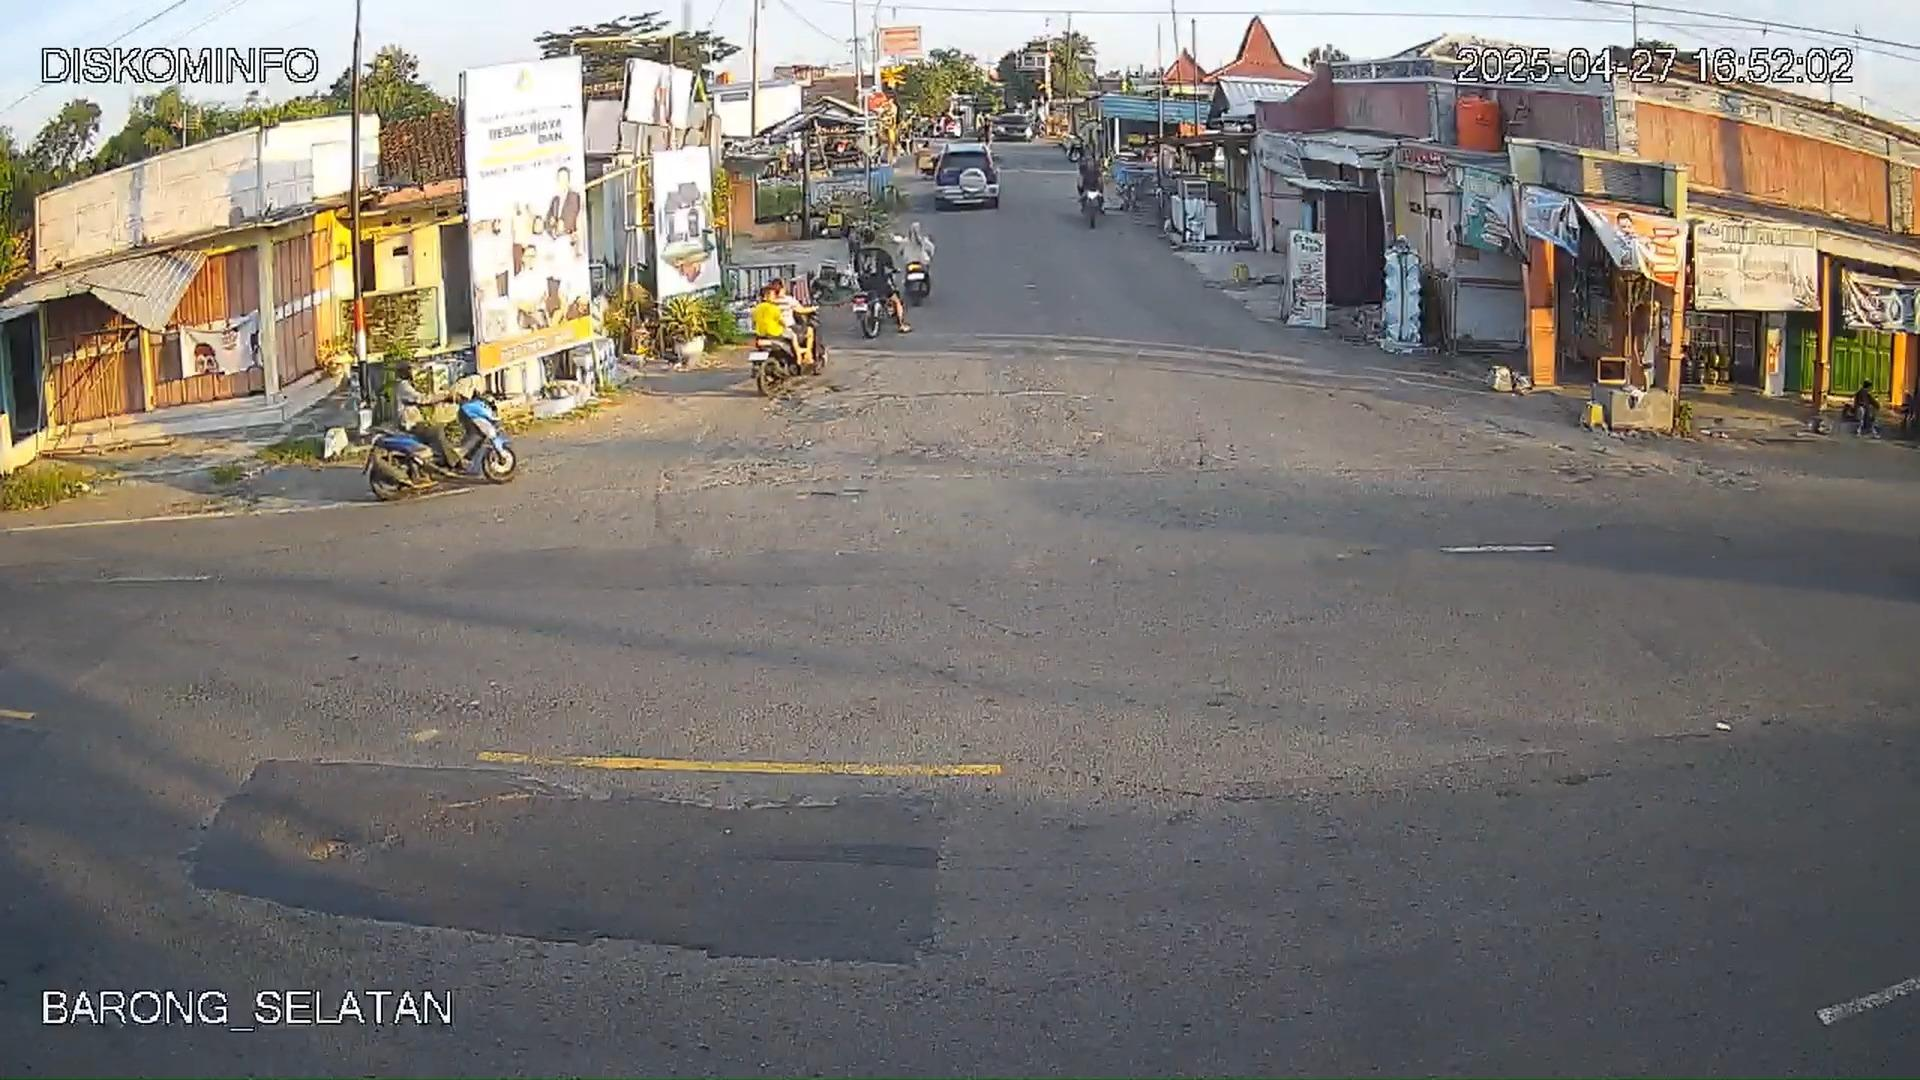Motor: (356, 357, 513, 510), (749, 302, 824, 398), (857, 225, 906, 339), (1077, 140, 1118, 224), (895, 219, 936, 302)
mobil: (931, 142, 1000, 212)
